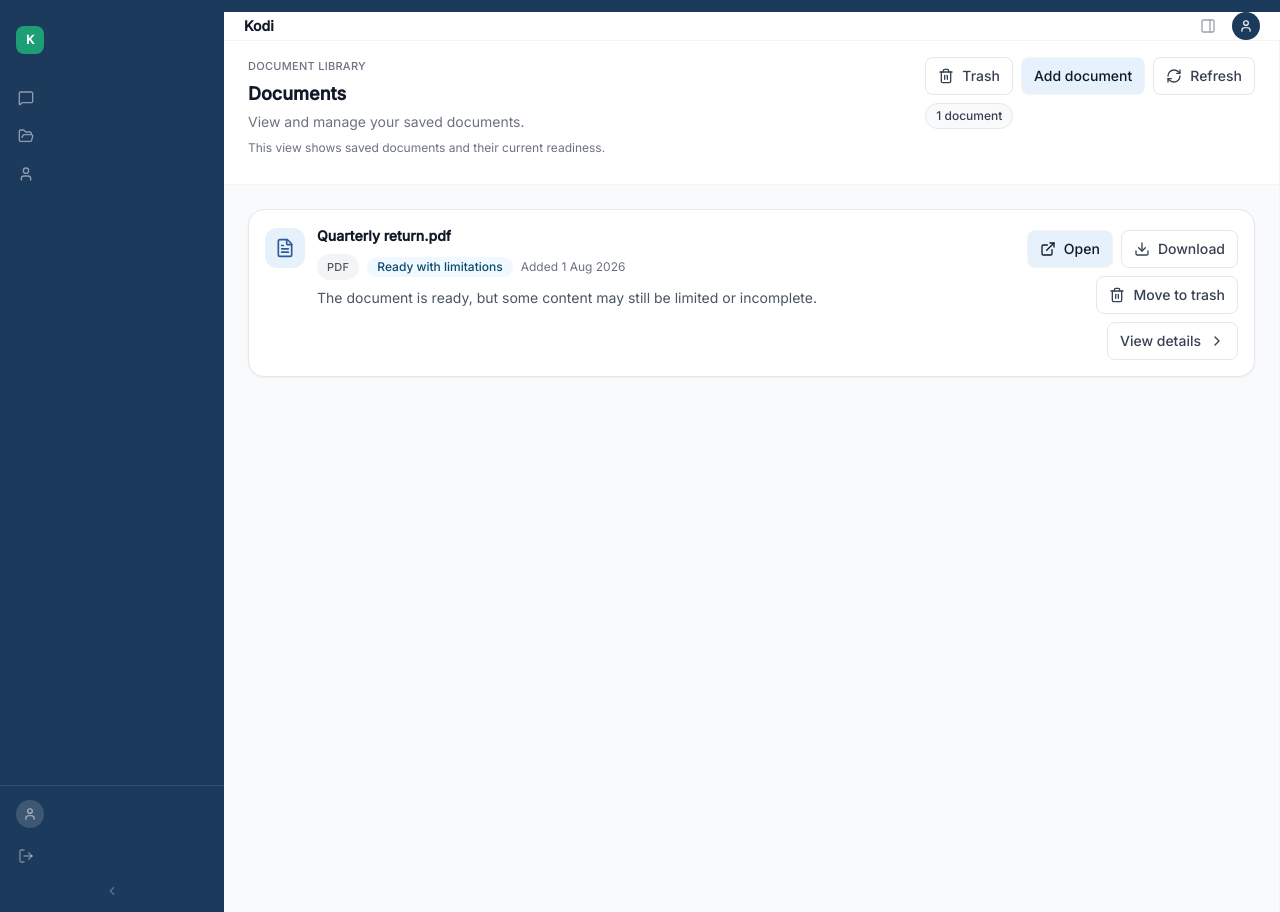
Scenario: document foundation › expands a document row to show the friendly metadata summary
This screenshot has width=1280, height=912.
Click the button with aria-label "Expand Quarterly return.pdf".
click(384, 236)  # box 317,226 -> 451,246
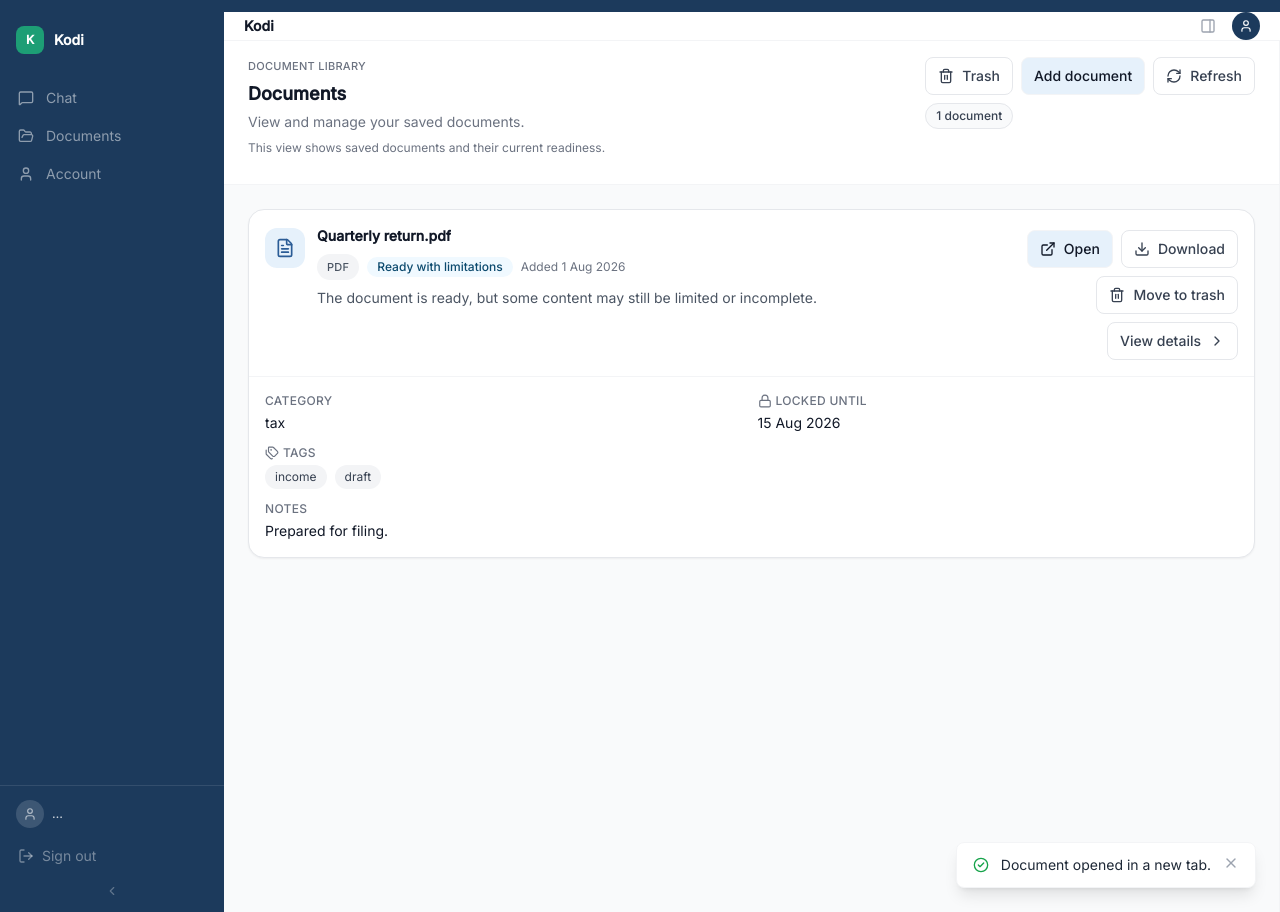
Check: the text "Category" is shown, box 265,393 -> 332,408
Check: the text "tax" is shown, box 265,414 -> 285,431
Check: the text "Locked until" is shown, box 758,393 -> 867,408
